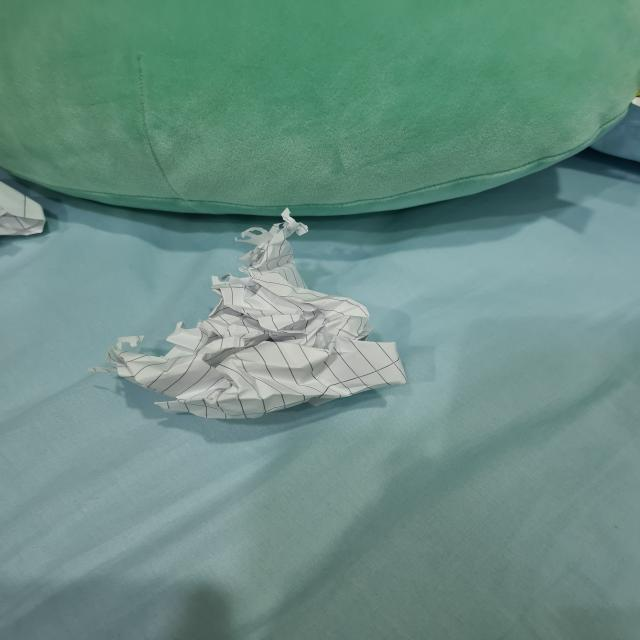Paper: (123, 220, 404, 414)
